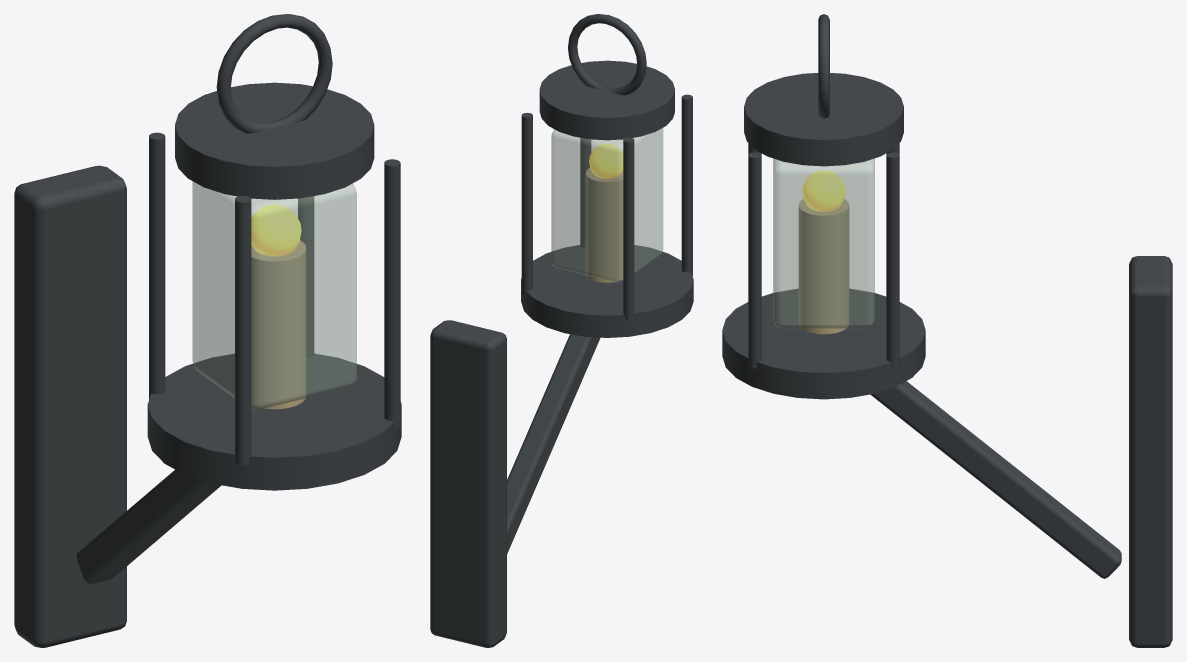
Rendered from undercity-sewers-and-thieves-den-gas-lamp-bracket-f18a8764__27206.glb.
3 renders of one model, left to right at view 1: azimuth 30°, elevation 25°; view 2: azimuth 150°, elevation 25°; view 3: azimuth 270°, elevation 25°, orthographic. The views are drawn at different scales.
Visible parts, largest first — view 1: gas-lamp-bracket; view 2: gas-lamp-bracket; view 3: gas-lamp-bracket.
Part boxes in pixels (box(x1,y1,x2,y2)): gas-lamp-bracket: box(14, 14, 401, 647); gas-lamp-bracket: box(430, 14, 693, 647); gas-lamp-bracket: box(722, 14, 1172, 647).
Size of the model in its own units: 0.28 by 0.933 by 0.62.
